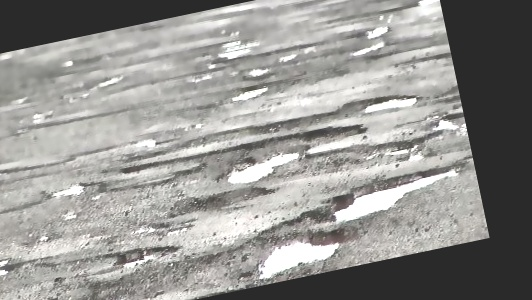pothole: (289, 159, 468, 232), (249, 223, 354, 283), (220, 146, 305, 188), (248, 105, 341, 139), (338, 86, 422, 122), (107, 236, 188, 270), (296, 120, 368, 152)
